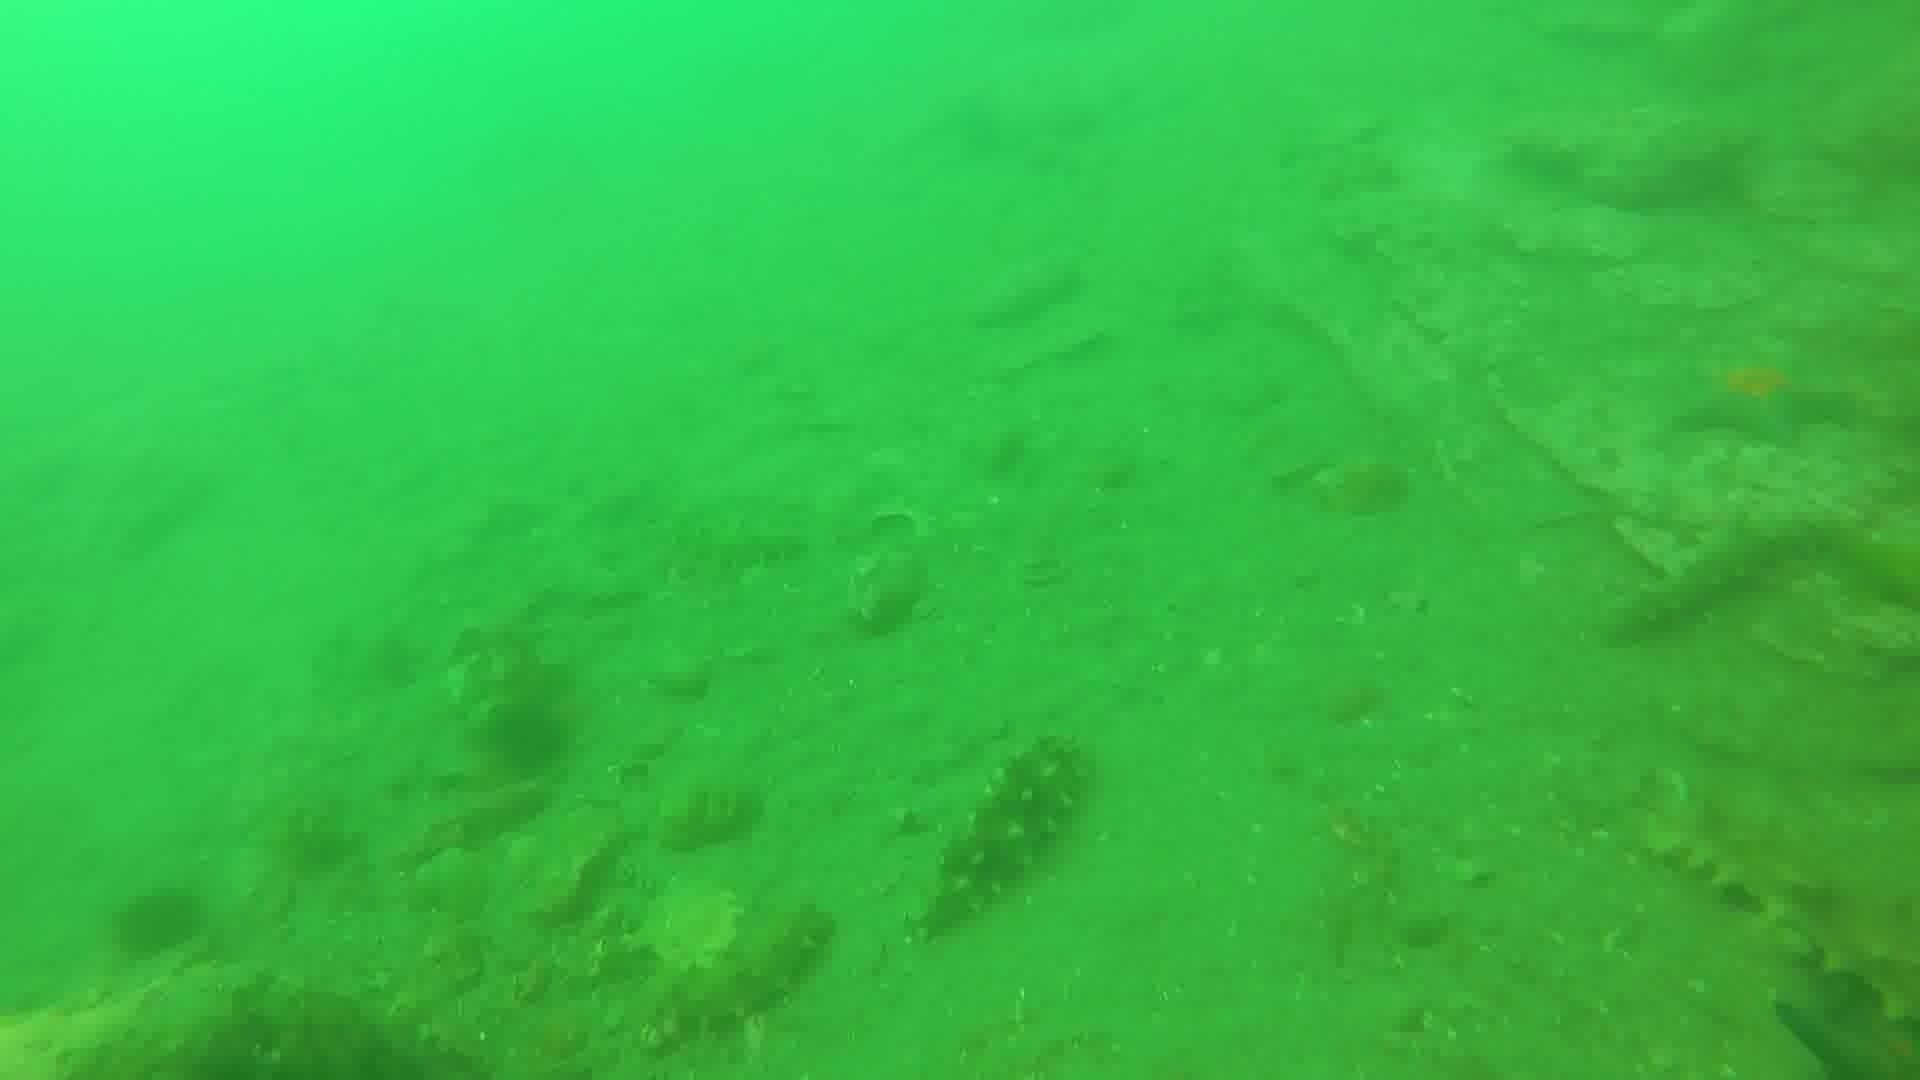echinus: (109, 882, 208, 964), (480, 695, 574, 781)
holothurian: (1639, 781, 1917, 1011), (907, 733, 1092, 940), (1601, 509, 1836, 647), (640, 895, 837, 1048), (647, 506, 810, 583)
starfish: (1671, 345, 1858, 454), (1770, 978, 1917, 1077)
